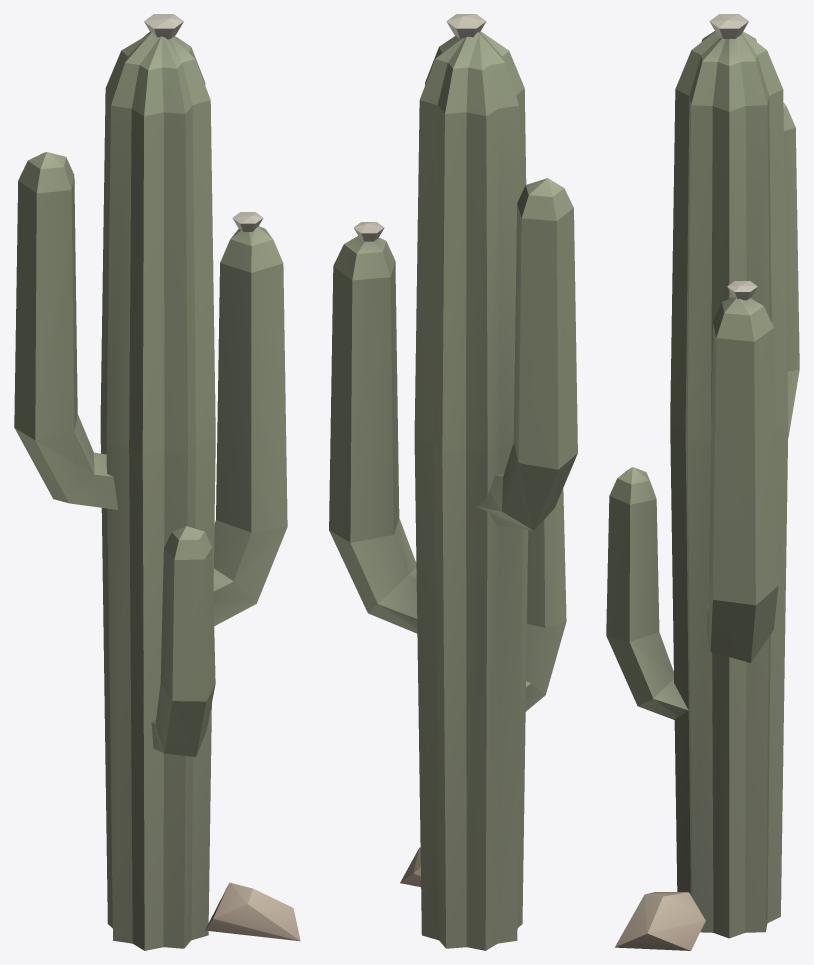
File: saguaro.lod1.glb
3 views of the same model, side by side, from view 1: azimuth 30°, elevation 25°; view 2: azimuth 150°, elevation 25°; view 3: azimuth 270°, elevation 25° (orthographic).
Size of the model in its own units: 1.27 by 4.5 by 0.877.
